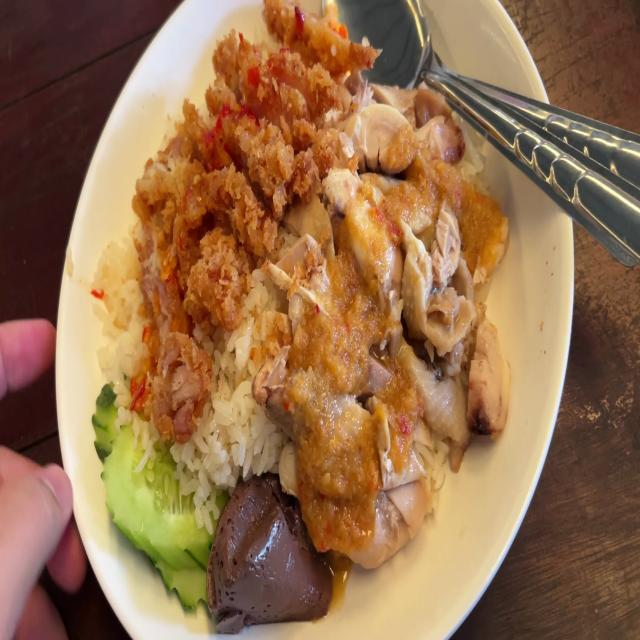chicken_rice: (282, 94, 501, 526)
noodle: (215, 465, 320, 626)
